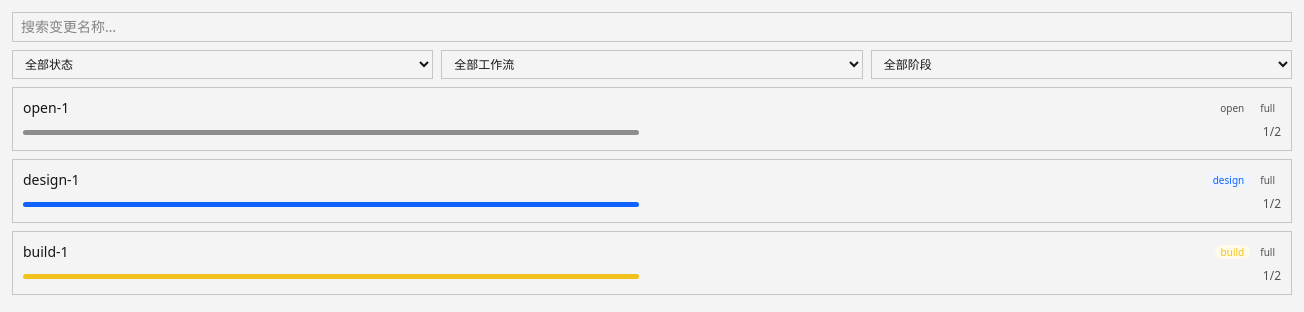
Scenario: ChangeExplorer › filters by phase using the phase select
Select "design" in the dropdown named "阶段" at (1081, 64), box [871,50,1292,79]
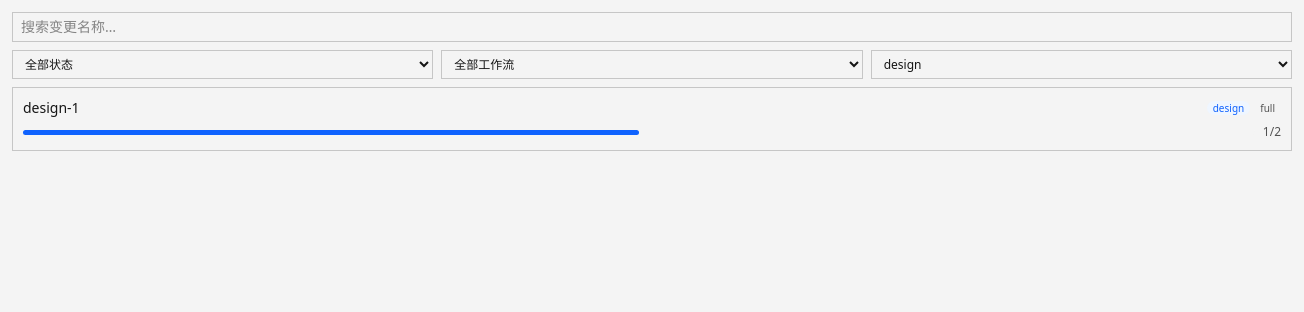
Expected: the text "design-1" is shown, [23,98,80,118]
Result: the text "open-1" is gone
Result: the text "build-1" is gone
